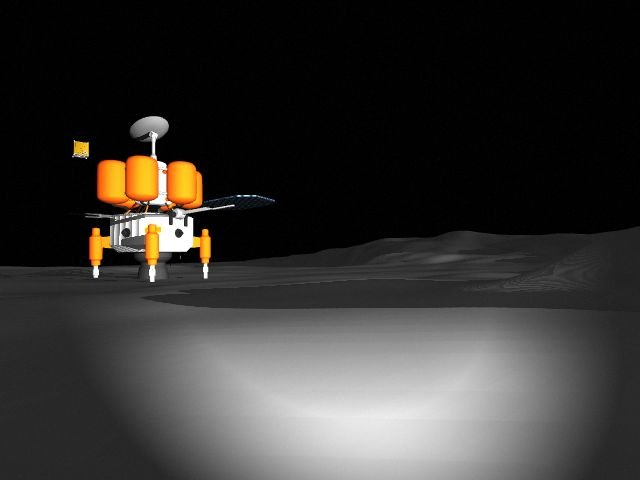cubesat: (70, 136, 90, 159)
